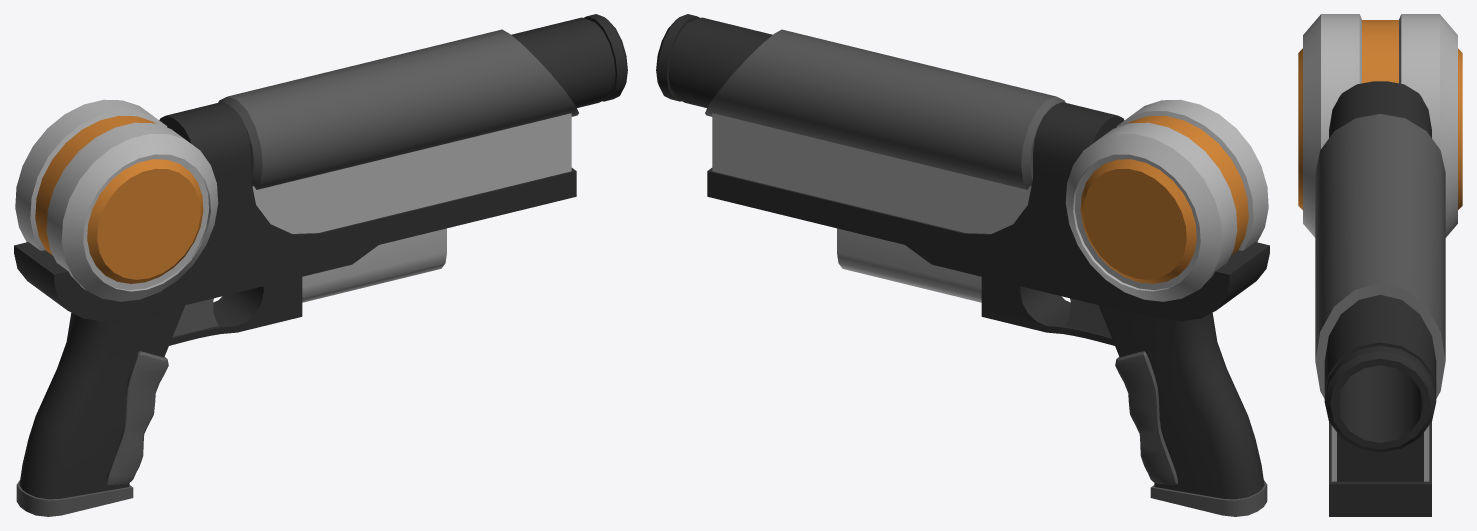
Rendered from Pistol_1.gltf.
The picture shows the model from 3 angles, left to right: view 1: azimuth 30°, elevation 25°; view 2: azimuth 150°, elevation 25°; view 3: azimuth 270°, elevation 25°; orthographic projection. The views are drawn at different scales.
Visible parts, largest first — view 1: Pistol_1; view 2: Pistol_1; view 3: Pistol_1.
Part boxes in pixels (x1,y1,x2,y2): Pistol_1: [14, 14, 627, 516]; Pistol_1: [656, 14, 1269, 516]; Pistol_1: [1298, 14, 1462, 516].
Bounding box in the file's own units: 0.9344 × 0.5605 × 0.1782.
